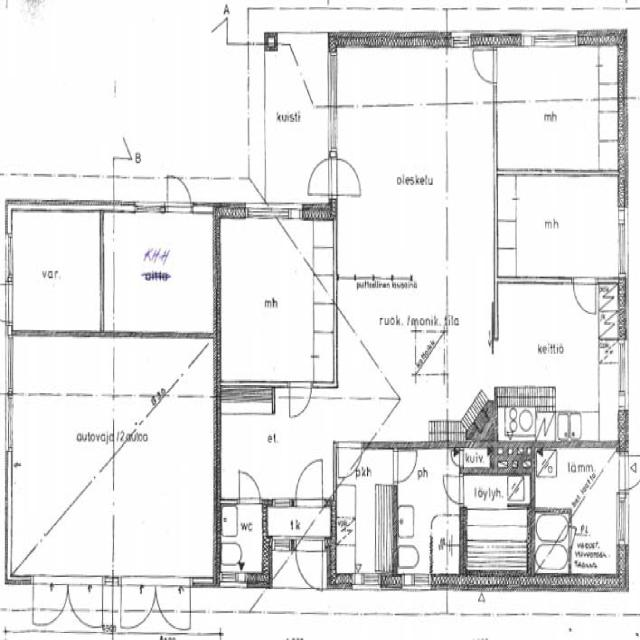door: (8, 208, 103, 337), (291, 454, 327, 511), (294, 537, 328, 592), (303, 153, 335, 203), (333, 153, 365, 200), (164, 171, 195, 217), (234, 465, 264, 508), (286, 377, 314, 422), (571, 275, 599, 319), (470, 46, 498, 87), (392, 445, 420, 485), (112, 131, 135, 167), (619, 452, 640, 491), (442, 471, 465, 506), (0, 277, 14, 325), (448, 447, 464, 469)
window: (243, 199, 309, 226), (324, 51, 342, 146), (614, 200, 631, 279), (502, 272, 576, 290), (616, 335, 632, 414), (524, 32, 579, 52), (614, 490, 630, 548), (1, 392, 15, 458), (398, 572, 434, 596), (350, 573, 386, 596), (326, 105, 341, 158), (217, 569, 248, 592), (3, 230, 16, 284), (487, 296, 501, 346), (1, 276, 15, 326), (132, 200, 166, 220), (108, 487, 119, 520), (450, 32, 472, 48)
zone: (493, 280, 623, 442), (216, 216, 333, 385), (495, 46, 614, 176), (101, 210, 216, 338), (496, 174, 624, 280), (260, 38, 330, 210), (394, 446, 462, 582), (334, 448, 398, 588), (568, 448, 622, 581), (333, 53, 448, 111), (462, 501, 531, 581), (216, 502, 268, 584), (532, 508, 571, 576), (462, 471, 530, 509), (461, 443, 495, 473)
